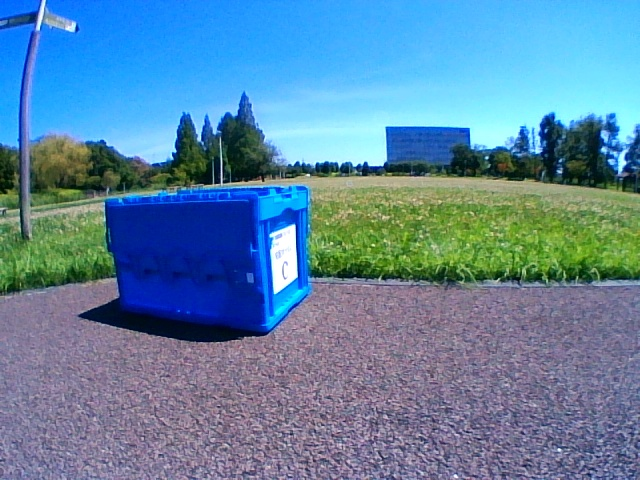blue_box: (105, 186, 309, 333)
tag_c: (275, 233, 294, 281)
